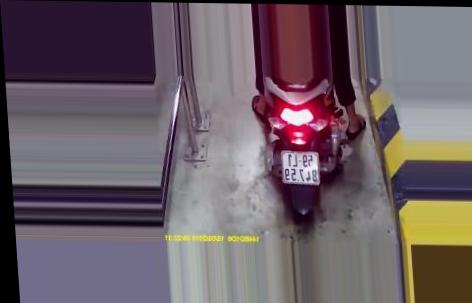License_Plate: (275, 148, 327, 187)
